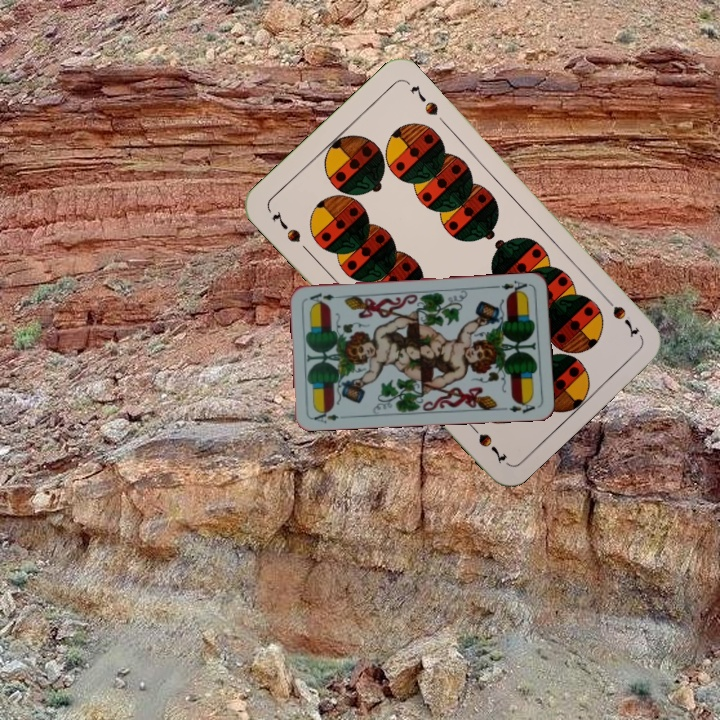EA: (492, 276, 529, 296), (310, 406, 341, 426)
S7: (599, 290, 642, 340), (267, 207, 304, 246)
